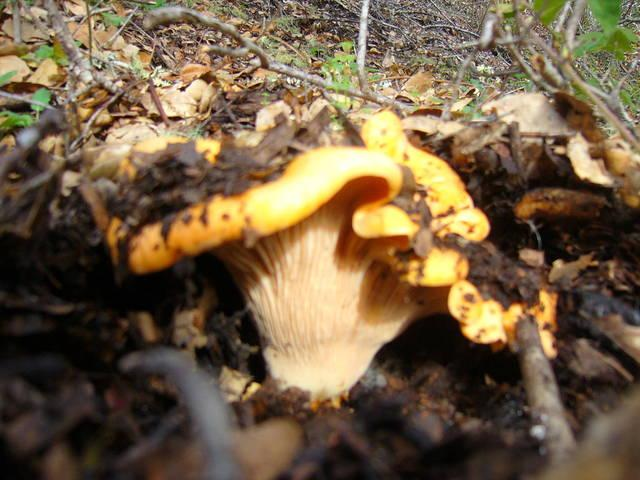Edible Mushroom: (101, 111, 561, 399)
